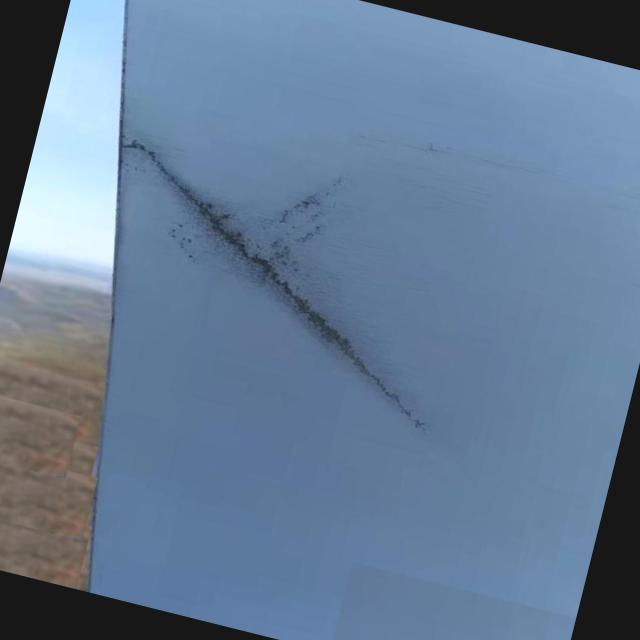crack: (78, 138, 456, 414)
